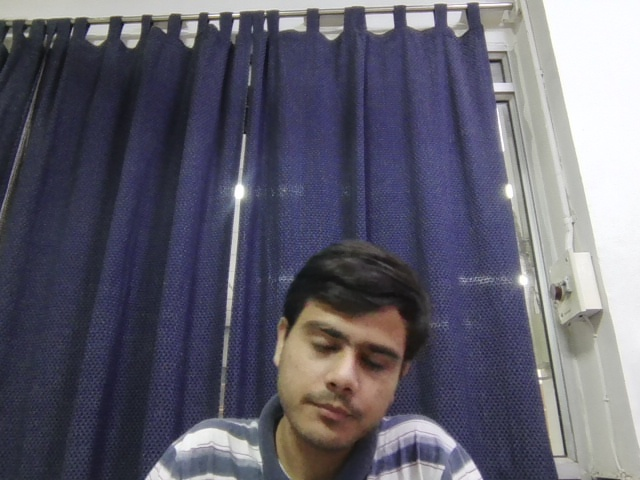face: (277, 247, 419, 448)
